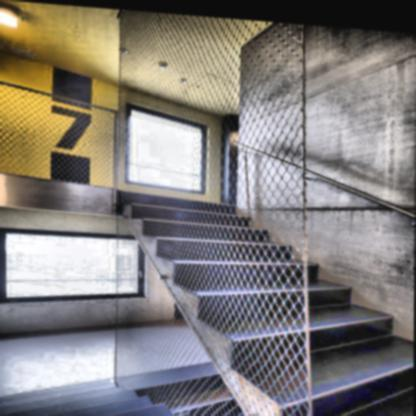stair: (121, 174, 416, 416)
